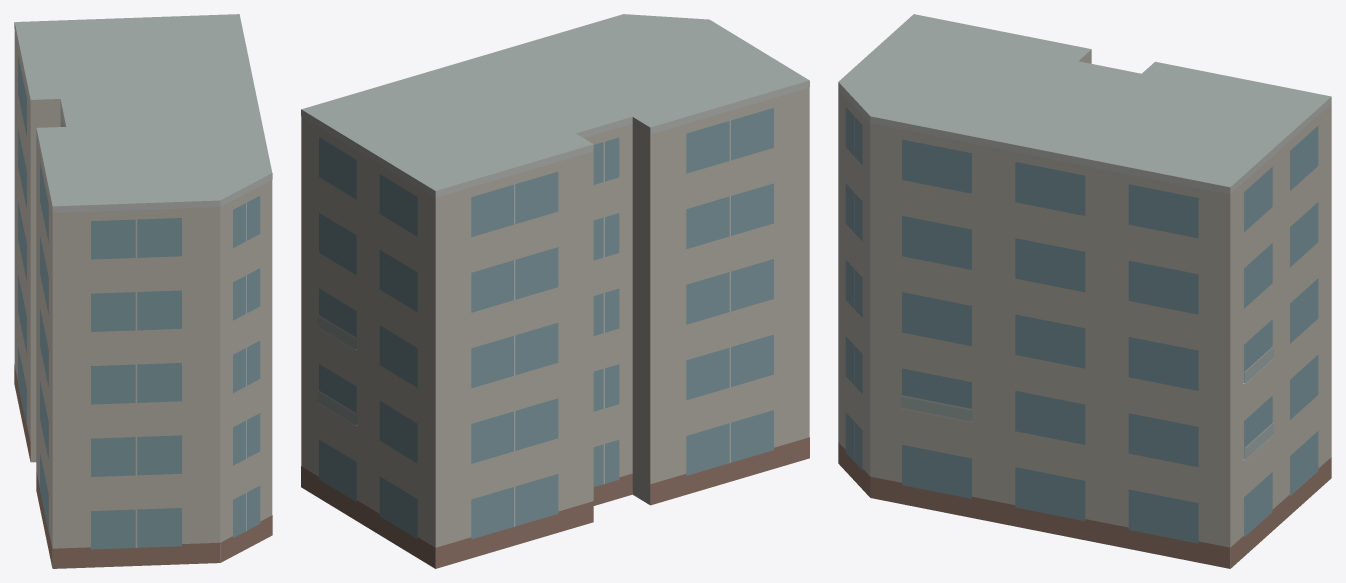
Rendered from survey-upis-32902420.glb.
3 views of the same model, side by side, from view 1: azimuth 30°, elevation 25°; view 2: azimuth 150°, elevation 25°; view 3: azimuth 270°, elevation 25° (orthographic). The views are drawn at different scales.
Parts seen in each view (by area): view 1: survey-upis-32902420.tmp; view 2: survey-upis-32902420.tmp; view 3: survey-upis-32902420.tmp.
Part boxes in pixels (x1,y1,x2,y2): survey-upis-32902420.tmp: [14, 14, 272, 568]; survey-upis-32902420.tmp: [301, 14, 809, 568]; survey-upis-32902420.tmp: [838, 14, 1331, 568].
Bounding box in the file's own units: 13.02 × 13.35 × 15.65.
